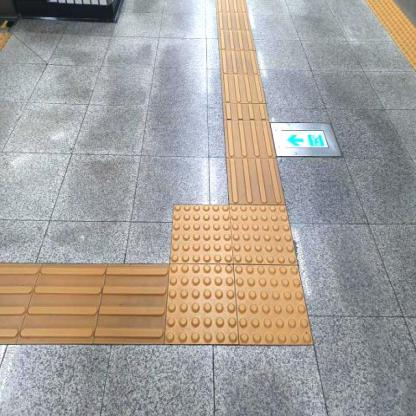podotacti: (142, 174, 336, 382), (215, 1, 290, 204), (0, 263, 165, 345)
